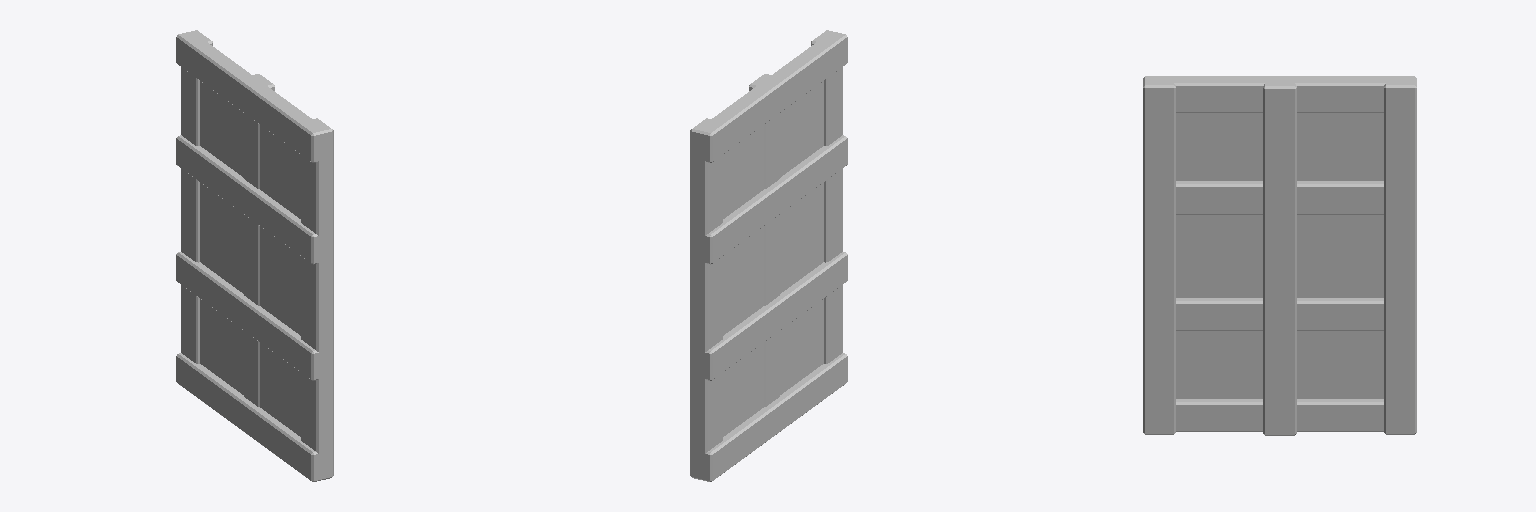
Rendered from window.obj.
3 views of the same model, side by side, from view 1: azimuth 30°, elevation 25°; view 2: azimuth 150°, elevation 25°; view 3: azimuth 270°, elevation 25° (orthographic).
Parts seen in each view (by area): view 1: glass_window; view 2: glass_window; view 3: glass_window.
Boxes of the visible parts, x1=… form: glass_window: x1=176, y1=30, x2=333, y2=481; glass_window: x1=690, y1=30, x2=847, y2=481; glass_window: x1=1143, y1=76, x2=1416, y2=435.
Size of the model in its own units: 0.4046 by 5.52 by 3.93.